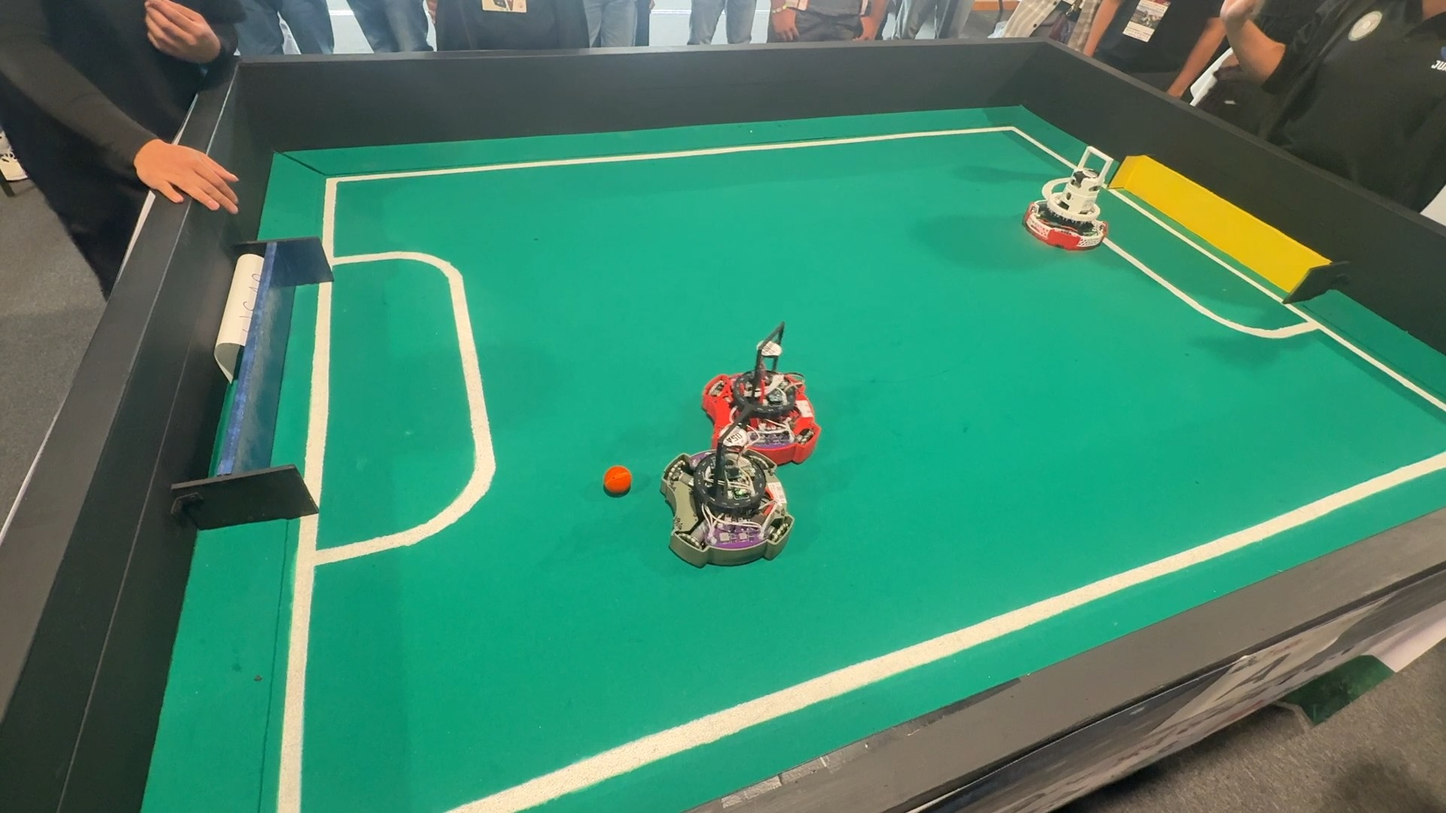Robot: (663, 430, 811, 582), (705, 326, 827, 469), (1013, 144, 1141, 260)
pelota: (602, 467, 640, 502)
